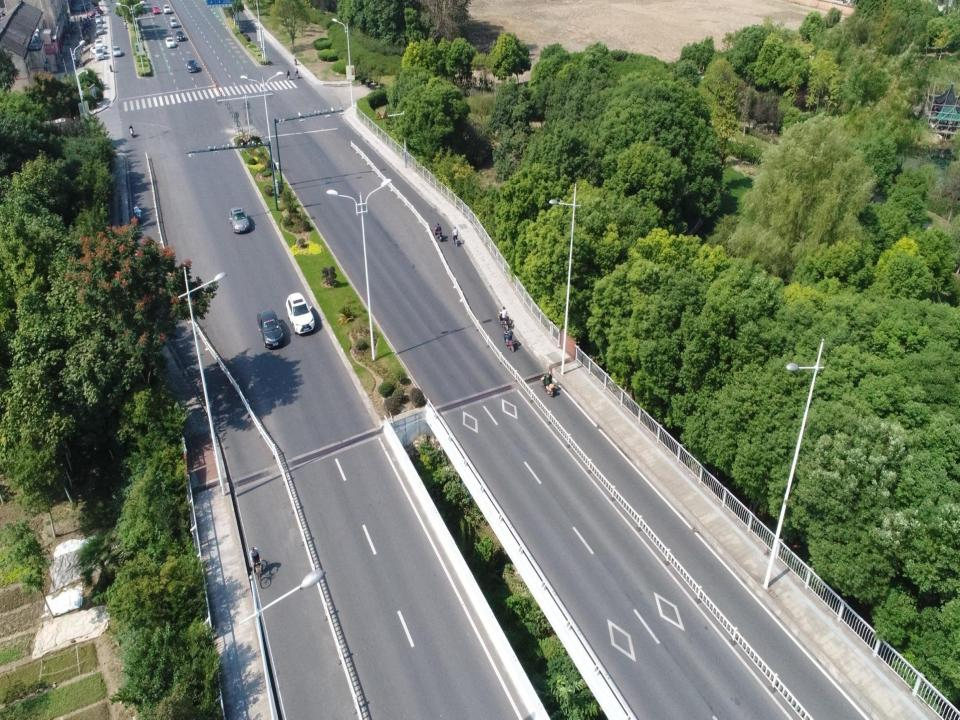car: (284, 292, 316, 337), (256, 304, 284, 352), (228, 205, 251, 234), (185, 56, 197, 72), (176, 30, 186, 42), (94, 49, 104, 60), (95, 24, 104, 35), (112, 44, 120, 56), (165, 37, 174, 47), (93, 13, 103, 22), (171, 16, 177, 28), (94, 37, 103, 44), (163, 4, 169, 14), (152, 4, 158, 13)
